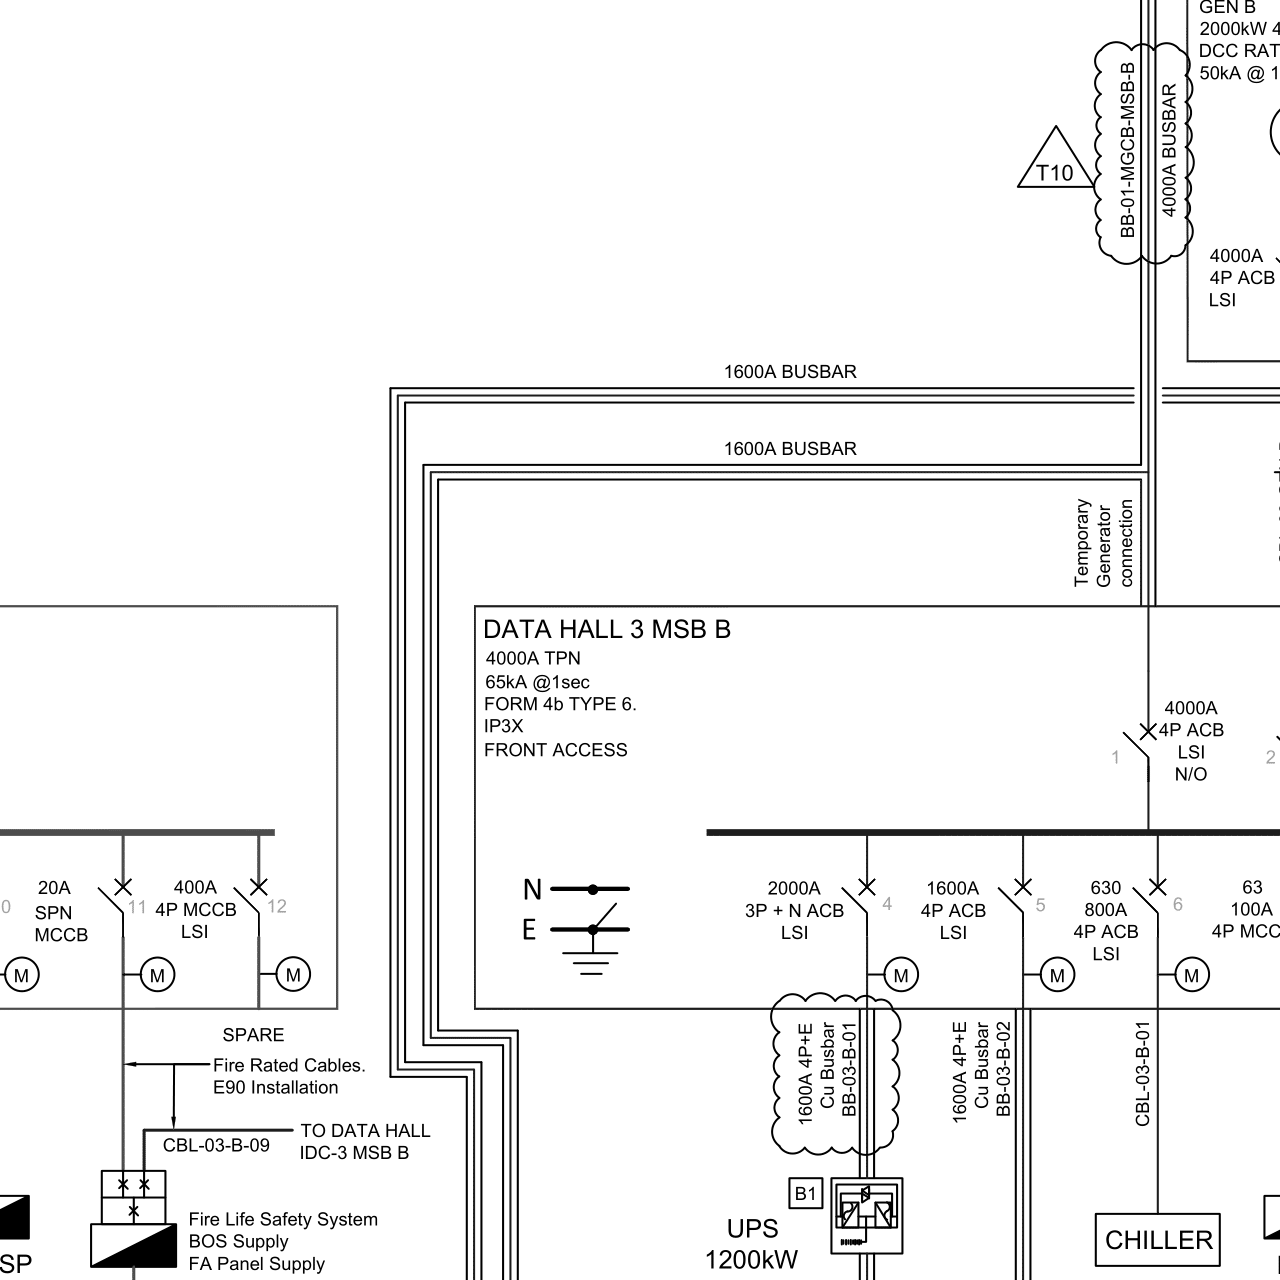Chiller: (1087, 1203, 1230, 1275)
UPS: (826, 1171, 911, 1260)
